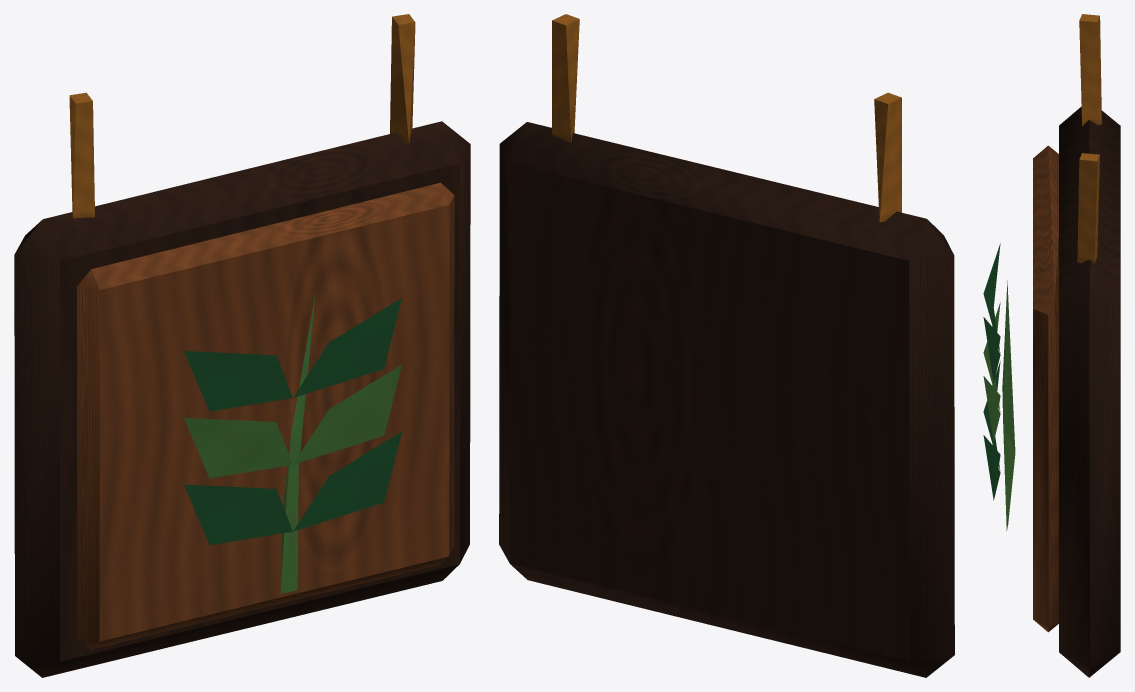
File: Placa_de_ervas_LOD1.fbx
3 renders of one model, left to right at view 1: azimuth 30°, elevation 25°; view 2: azimuth 150°, elevation 25°; view 3: azimuth 270°, elevation 25°, orthographic. The views are drawn at different scales.
Visible parts, largest first — view 1: Placa_de_ervas_LOD1; view 2: Placa_de_ervas_LOD1; view 3: Placa_de_ervas_LOD1.
Boxes of the visible parts, x1,y1,x2,y2 form: Placa_de_ervas_LOD1: [14, 14, 470, 677]; Placa_de_ervas_LOD1: [499, 14, 954, 677]; Placa_de_ervas_LOD1: [983, 14, 1120, 677].
Bounding box in the file's own units: 136 × 162 × 40.
Materials: 1 (1 with a texture image).
